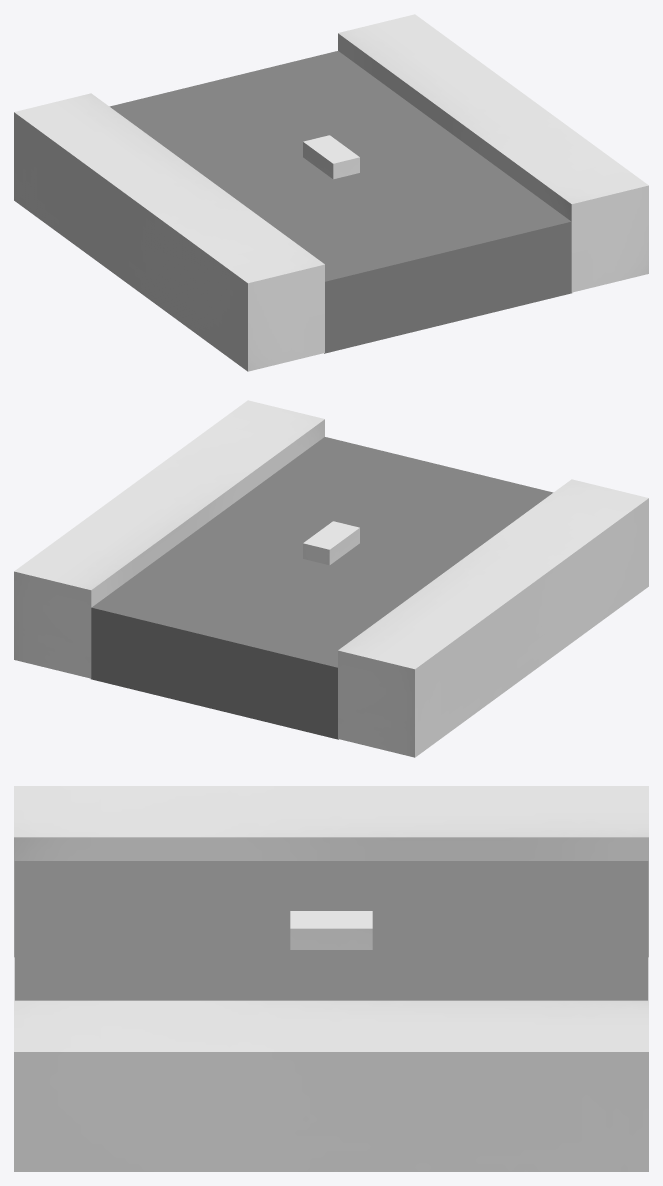
Rendered from pista.fbx.
3 renders of one model, top to bottom at view 1: azimuth 30°, elevation 25°; view 2: azimuth 150°, elevation 25°; view 3: azimuth 270°, elevation 25°, orthographic. The views are drawn at different scales.
Visible parts, largest first — view 1: Cube; view 2: Cube; view 3: Cube.
Boxes of the visible parts, box(x1,y1,x2,y2) form: Cube: box(14, 14, 648, 371); Cube: box(14, 400, 648, 757); Cube: box(14, 786, 648, 1171).
Size of the model in its own units: 198 by 42.22 by 200.
